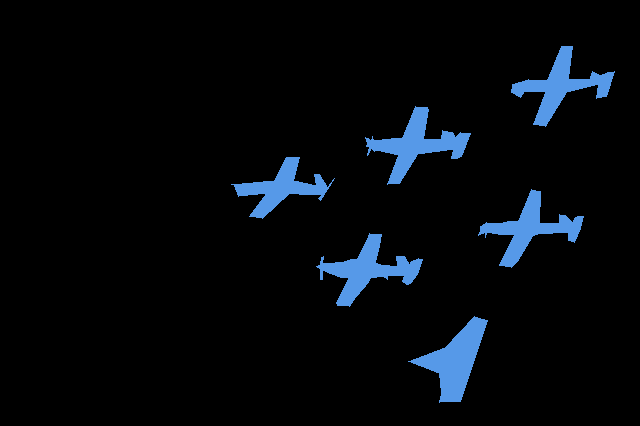Airplane: (365, 106, 471, 185), (478, 189, 584, 268), (511, 46, 614, 127), (316, 233, 422, 306), (408, 316, 488, 402), (231, 157, 334, 219)
